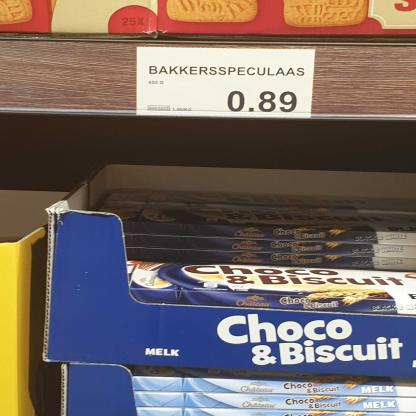prtg: (137, 48, 317, 120)
